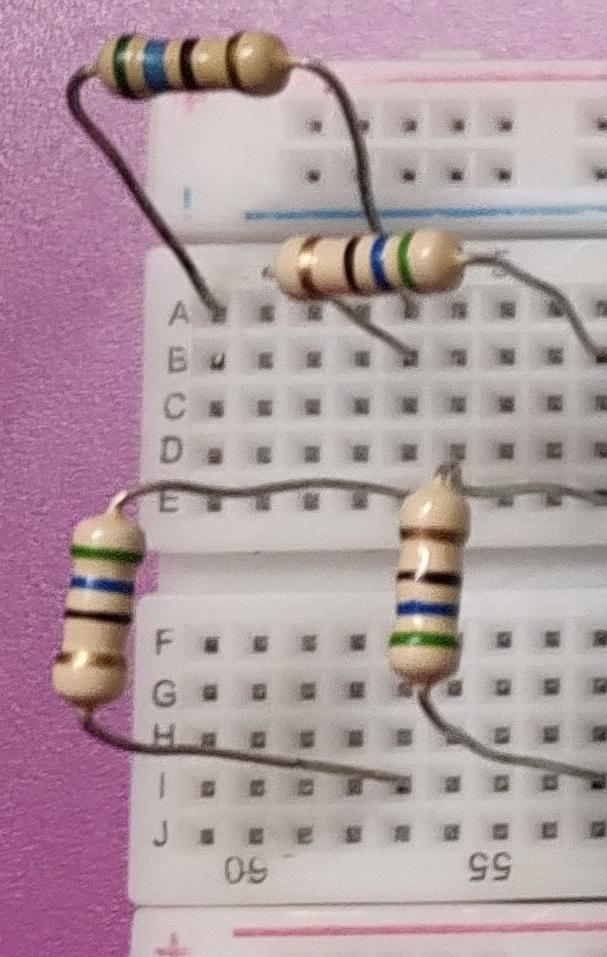resistor: (33, 491, 165, 735), (379, 463, 475, 710), (91, 15, 299, 121), (261, 217, 484, 315)
